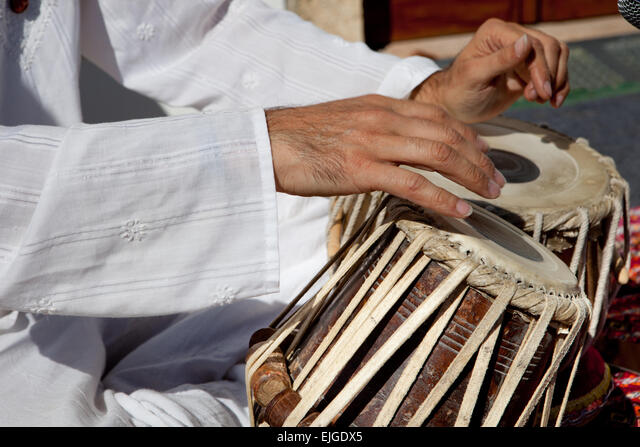tabla: (254, 194, 592, 423), (337, 110, 623, 288)
